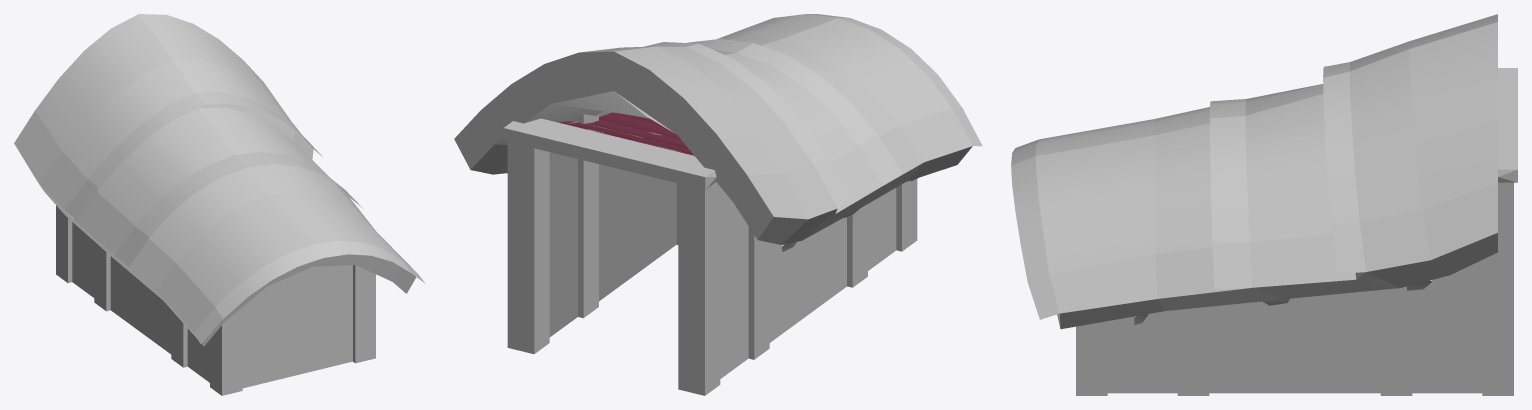
Rendered from SM_Bld_Roof_Thatch_Preset_Overhang_02.fbx.
3 views of the same model, side by side, from view 1: azimuth 30°, elevation 25°; view 2: azimuth 150°, elevation 25°; view 3: azimuth 270°, elevation 25° (orthographic). The views are drawn at different scales.
Parts seen in each view (by area): view 1: SM_Bld_Roof_Thatch_Preset_Overhang_02; view 2: SM_Bld_Roof_Thatch_Preset_Overhang_02; view 3: SM_Bld_Roof_Thatch_Preset_Overhang_02.
Part boxes in pixels (x1,y1,x2,y2): SM_Bld_Roof_Thatch_Preset_Overhang_02: [14, 14, 425, 395]; SM_Bld_Roof_Thatch_Preset_Overhang_02: [454, 14, 982, 395]; SM_Bld_Roof_Thatch_Preset_Overhang_02: [1011, 14, 1517, 395].
Bounding box in the file's own units: 474 × 443 × 624.
